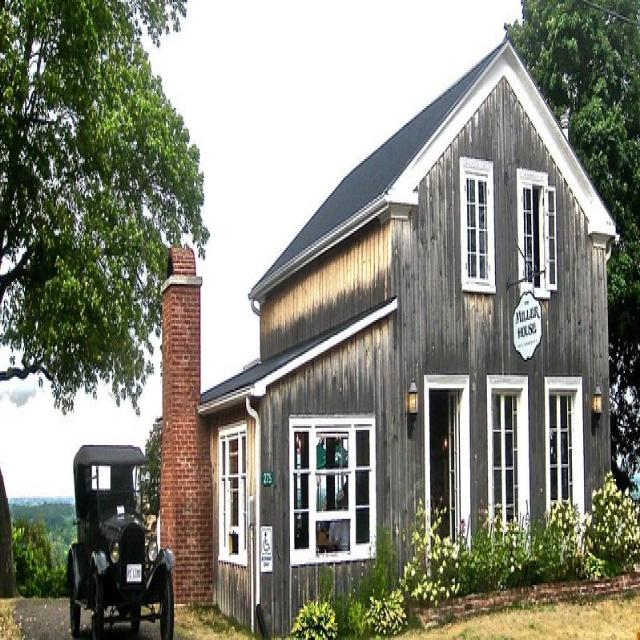building: (159, 39, 623, 630)
